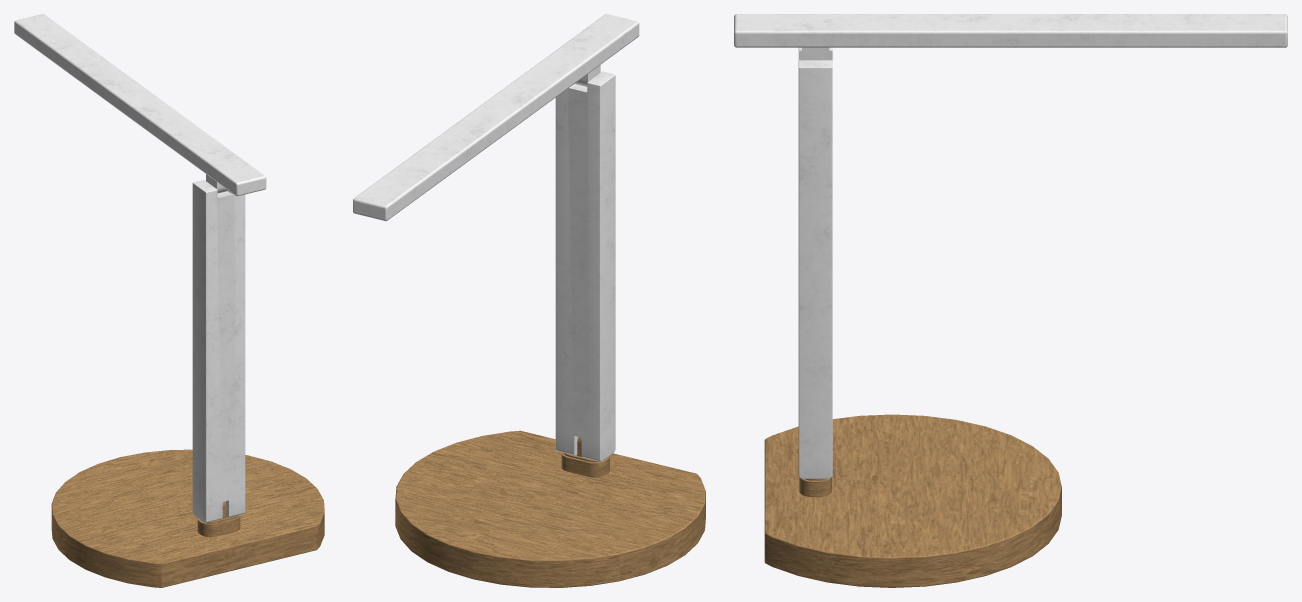
3 views of the same model, side by side, from view 1: azimuth 30°, elevation 25°; view 2: azimuth 150°, elevation 25°; view 3: azimuth 270°, elevation 25° (orthographic). The views are drawn at different scales.
Visible parts, largest first — view 1: Cube.001_Material.003_0, Circle_Material.001_0, Plane_Material.002_0; view 2: Circle_Material.001_0, Cube.001_Material.003_0, Plane_Material.002_0; view 3: Circle_Material.001_0, Cube.001_Material.003_0.
Boxes of the visible parts, x1=… form: Cube.001_Material.003_0: x1=14, y1=14, x2=266, y2=522; Circle_Material.001_0: x1=51, y1=449, x2=324, y2=587; Plane_Material.002_0: x1=197, y1=501, x2=240, y2=537; Circle_Material.001_0: x1=395, y1=430, x2=705, y2=587; Cube.001_Material.003_0: x1=353, y1=14, x2=639, y2=461; Plane_Material.002_0: x1=561, y1=437, x2=609, y2=477; Circle_Material.001_0: x1=764, y1=414, x2=1061, y2=587; Cube.001_Material.003_0: x1=734, y1=14, x2=1287, y2=478.
Size of the model in its own units: 2 by 3.21 by 3.26.
Materials: 3 (3 with a texture image).
